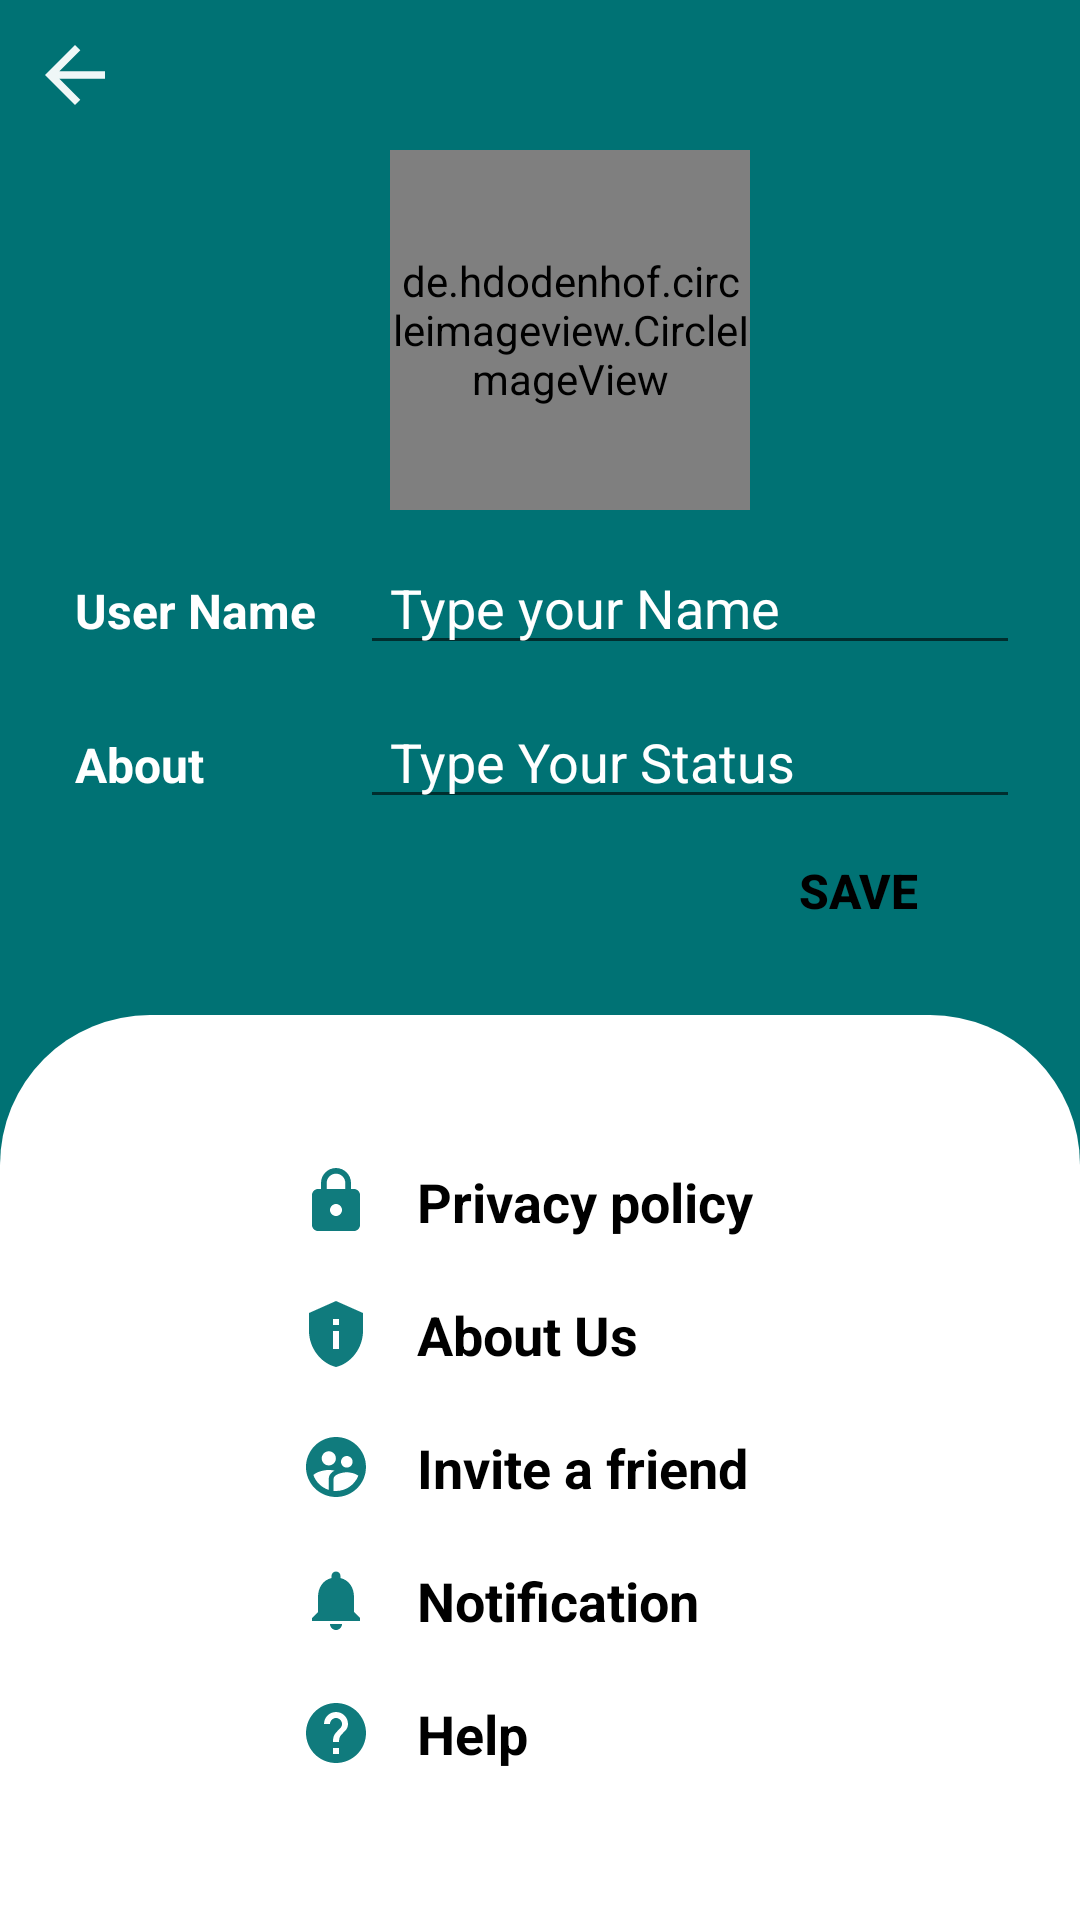

Icons on this 1080 x 1920 Android screen, each with the point to tap as [x,y]:
arrow back: [75,75]
